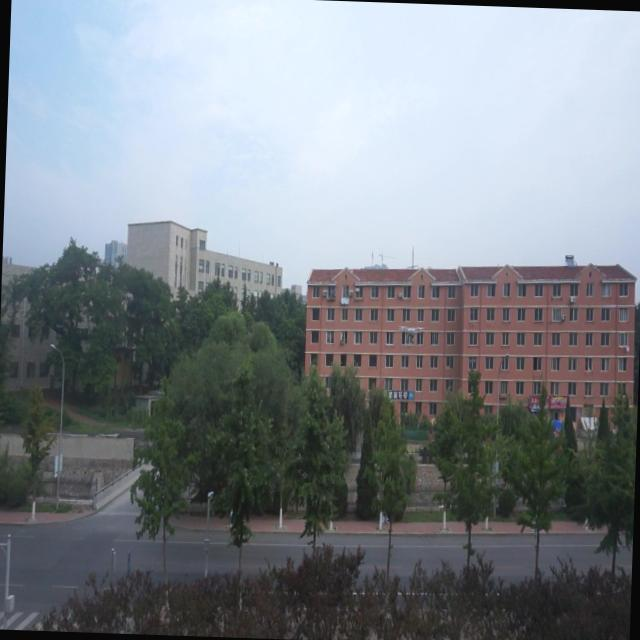drone: (394, 318, 426, 342)
